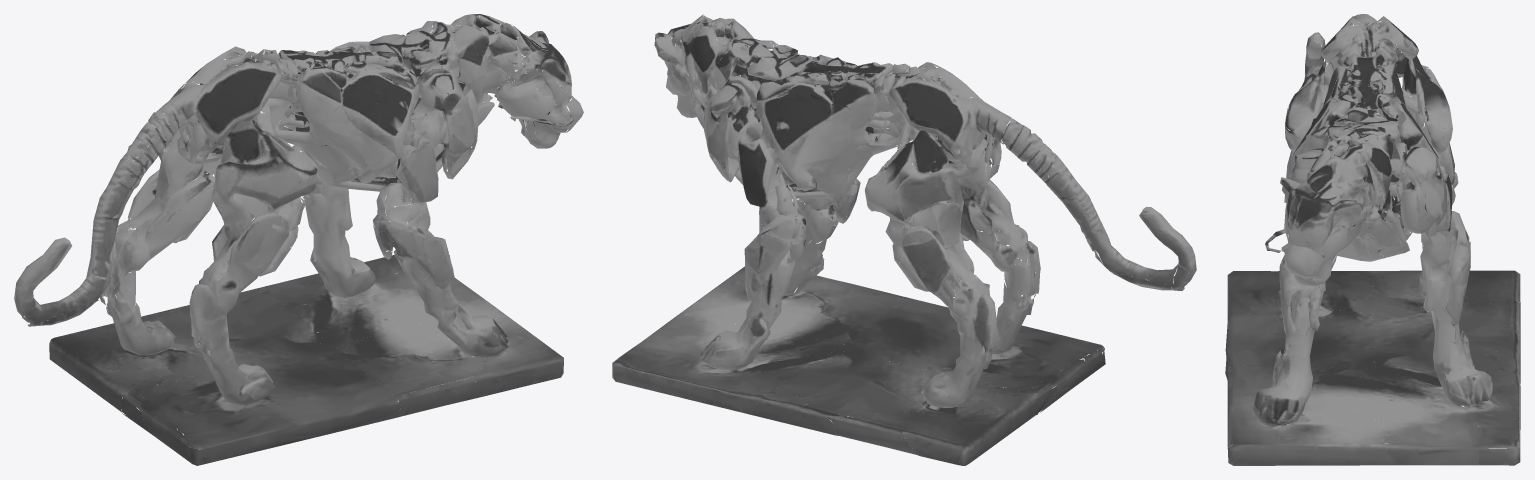
File: baiencaigai-tigai-900-opt-v14.glb
The picture shows the model from 3 angles, left to right: view 1: azimuth 30°, elevation 25°; view 2: azimuth 150°, elevation 25°; view 3: azimuth 270°, elevation 25°; orthographic projection. The views are drawn at different scales.
Parts seen in each view (by area): view 1: tripo_node_e4f18f40-6a36-4dcb-950e-e9acdbeef21f; view 2: tripo_node_e4f18f40-6a36-4dcb-950e-e9acdbeef21f; view 3: tripo_node_e4f18f40-6a36-4dcb-950e-e9acdbeef21f.
Part boxes in pixels (left/top/right/bottom): tripo_node_e4f18f40-6a36-4dcb-950e-e9acdbeef21f: left=14, top=14, right=583, bottom=465; tripo_node_e4f18f40-6a36-4dcb-950e-e9acdbeef21f: left=612, top=14, right=1196, bottom=465; tripo_node_e4f18f40-6a36-4dcb-950e-e9acdbeef21f: left=1225, top=14, right=1520, bottom=465.
Bounding box in the file's own units: 8.81 × 5 × 4.14.
1 material, 1 textured.
